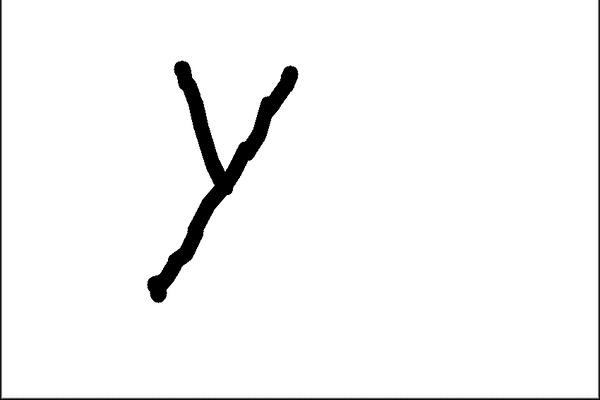Y: (136, 44, 316, 304)
